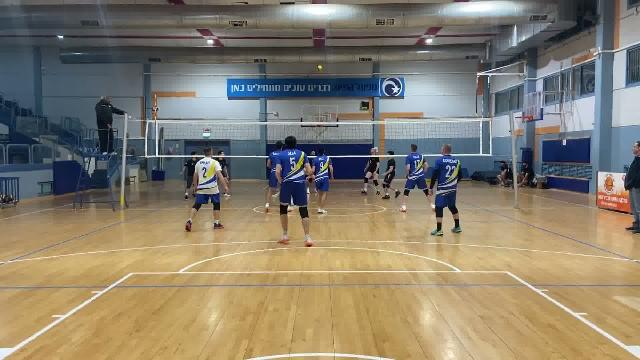ball: (314, 62, 327, 73)
